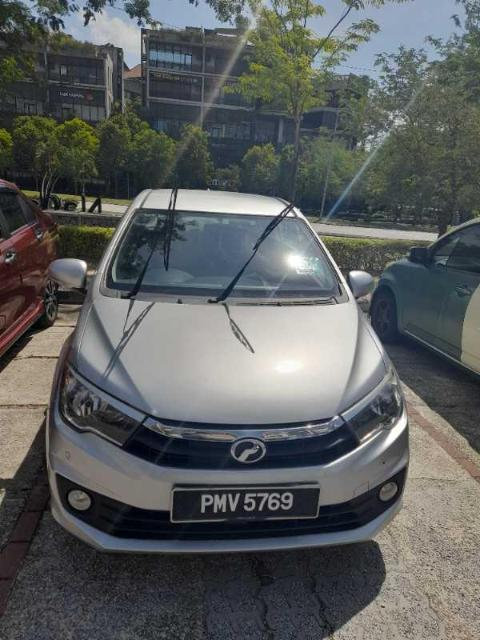License_Plate: (170, 484, 322, 524)
car: (45, 188, 411, 557)
